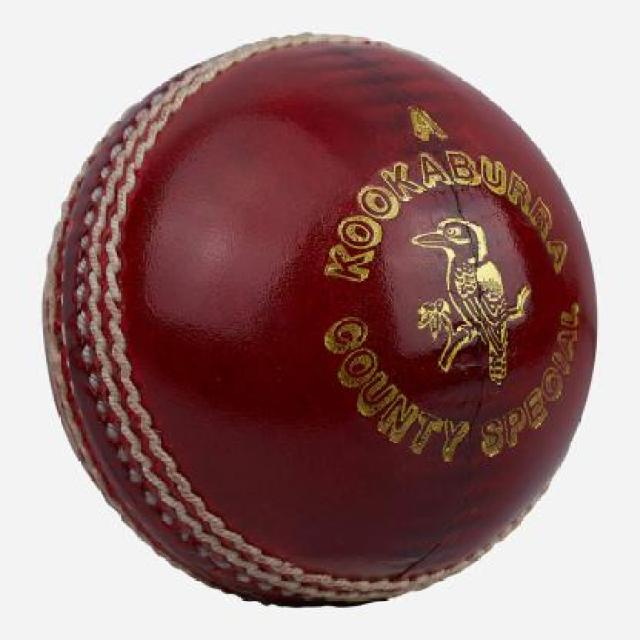ball: (0, 9, 635, 618)
